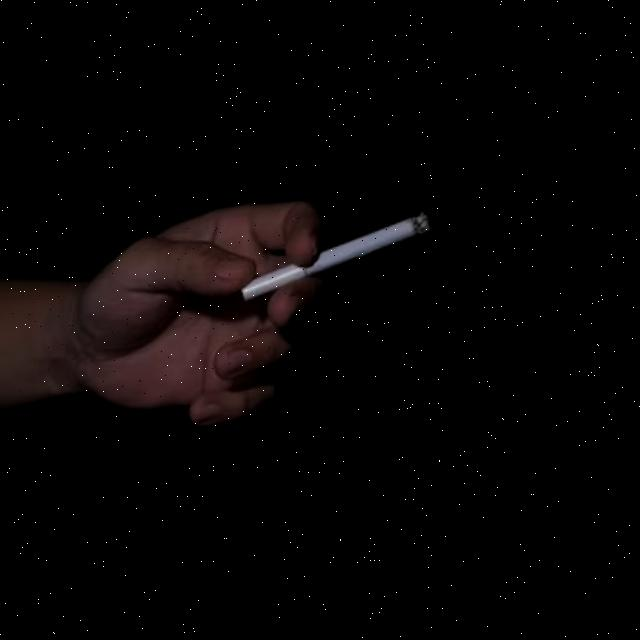cigarette: (244, 217, 435, 307)
